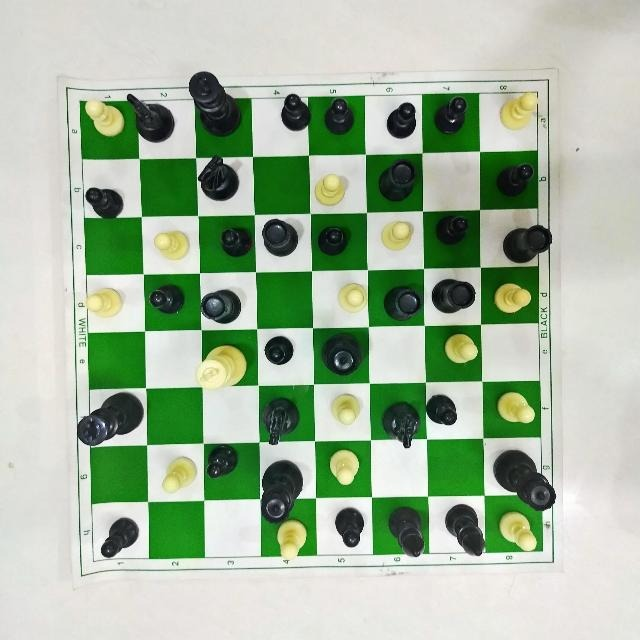black-bishop: (444, 504, 486, 556), (388, 506, 426, 558)
black-king: (76, 391, 144, 447), (187, 70, 242, 137)
black-knight: (127, 92, 175, 143), (197, 154, 239, 201), (381, 401, 421, 448), (261, 397, 300, 445)
black-pawn: (100, 516, 139, 557), (433, 95, 468, 135), (495, 162, 534, 197), (85, 187, 125, 219), (280, 93, 312, 131), (334, 507, 364, 547), (324, 97, 354, 135), (206, 444, 238, 478), (386, 103, 416, 139), (148, 284, 184, 314), (425, 393, 457, 426), (435, 214, 469, 245), (219, 226, 252, 257), (317, 226, 348, 256), (264, 335, 294, 364)
black-queen: (492, 448, 556, 511), (260, 459, 304, 525), (321, 332, 363, 376)
black-rook: (502, 224, 552, 264), (377, 157, 417, 202), (431, 278, 475, 314), (200, 288, 242, 324), (384, 285, 424, 321), (262, 218, 298, 257)
white-king: (195, 344, 247, 390)
white-pawn: (499, 90, 539, 131), (84, 96, 124, 137), (498, 513, 537, 551), (162, 456, 198, 494), (496, 392, 535, 424), (493, 282, 531, 314), (85, 287, 123, 318), (153, 229, 190, 260), (314, 173, 346, 207), (329, 449, 359, 485), (444, 332, 478, 363), (277, 526, 307, 560), (380, 220, 412, 251), (330, 392, 360, 425), (338, 282, 368, 313)
